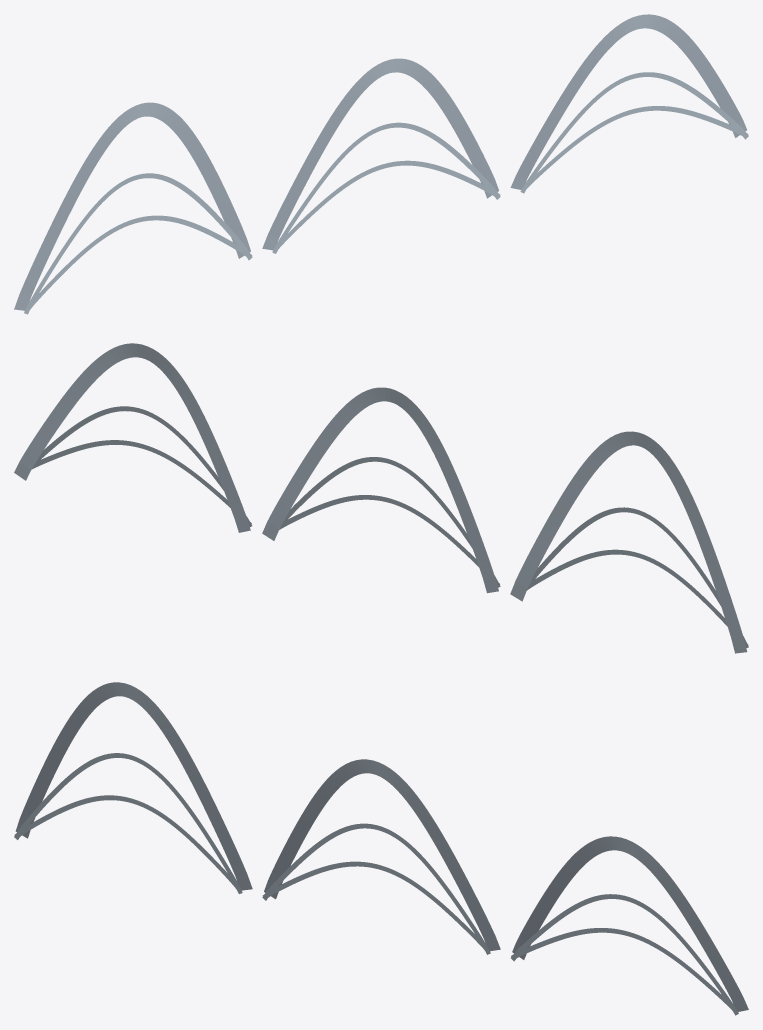
File: 2073_SharkWave_SharkWaveFoam.fbx
3 renders of one model, top to bottom at view 1: azimuth 30°, elevation 25°; view 2: azimuth 150°, elevation 25°; view 3: azimuth 330°, elevation 25°, orthographic.
Visible parts, largest first — view 1: PART_BreakingWhiteWaterLip_0, PART_BreakingWhiteWaterLip_1, PART_BreakingWhiteWaterLip_2, PART_CurvedWaterFold_0_1, PART_CurvedWaterFold_1_1, PART_CurvedWaterFold_2_1, PART_CurvedWaterFold_0_0, PART_CurvedWaterFold_1_0, PART_CurvedWaterFold_2_0; view 2: PART_BreakingWhiteWaterLip_0, PART_BreakingWhiteWaterLip_1, PART_BreakingWhiteWaterLip_2, PART_CurvedWaterFold_0_1, PART_CurvedWaterFold_1_1, PART_CurvedWaterFold_2_1, PART_CurvedWaterFold_0_0, PART_CurvedWaterFold_1_0, PART_CurvedWaterFold_2_0; view 3: PART_BreakingWhiteWaterLip_0, PART_BreakingWhiteWaterLip_1, PART_BreakingWhiteWaterLip_2, PART_CurvedWaterFold_0_1, PART_CurvedWaterFold_1_1, PART_CurvedWaterFold_2_1, PART_CurvedWaterFold_0_0, PART_CurvedWaterFold_1_0, PART_CurvedWaterFold_2_0.
Part boxes in pixels (left/top/right/bottom): PART_BreakingWhiteWaterLip_0: left=14, top=102, right=250, bottom=310; PART_BreakingWhiteWaterLip_1: left=262, top=58, right=498, bottom=250; PART_BreakingWhiteWaterLip_2: left=510, top=14, right=746, bottom=189; PART_CurvedWaterFold_0_1: left=24, top=173, right=252, bottom=314; PART_CurvedWaterFold_1_1: left=272, top=122, right=500, bottom=253; PART_CurvedWaterFold_2_1: left=520, top=72, right=748, bottom=193; PART_CurvedWaterFold_0_0: left=24, top=215, right=252, bottom=312; PART_CurvedWaterFold_1_0: left=272, top=160, right=500, bottom=252; PART_CurvedWaterFold_2_0: left=521, top=106, right=748, bottom=192; PART_BreakingWhiteWaterLip_0: left=510, top=431, right=747, bottom=653; PART_BreakingWhiteWaterLip_1: left=262, top=387, right=498, bottom=593; PART_BreakingWhiteWaterLip_2: left=14, top=343, right=250, bottom=532; PART_CurvedWaterFold_0_1: left=527, top=507, right=748, bottom=647; PART_CurvedWaterFold_1_1: left=280, top=457, right=500, bottom=587; PART_CurvedWaterFold_2_1: left=34, top=406, right=252, bottom=526; PART_CurvedWaterFold_0_0: left=527, top=549, right=748, bottom=646; PART_CurvedWaterFold_1_0: left=279, top=495, right=499, bottom=586; PART_CurvedWaterFold_2_0: left=32, top=440, right=251, bottom=525; PART_BreakingWhiteWaterLip_0: left=15, top=682, right=252, bottom=890; PART_BreakingWhiteWaterLip_1: left=264, top=759, right=500, bottom=950; PART_BreakingWhiteWaterLip_2: left=512, top=836, right=748, bottom=1011; PART_CurvedWaterFold_0_1: left=14, top=753, right=242, bottom=893; PART_CurvedWaterFold_1_1: left=262, top=823, right=490, bottom=954; PART_CurvedWaterFold_2_1: left=511, top=894, right=738, bottom=1015; PART_CurvedWaterFold_0_0: left=14, top=795, right=242, bottom=892; PART_CurvedWaterFold_1_0: left=262, top=861, right=490, bottom=952; PART_CurvedWaterFold_2_0: left=511, top=928, right=738, bottom=1014.
Bounding box in the file's own units: 587 × 144 × 13.
